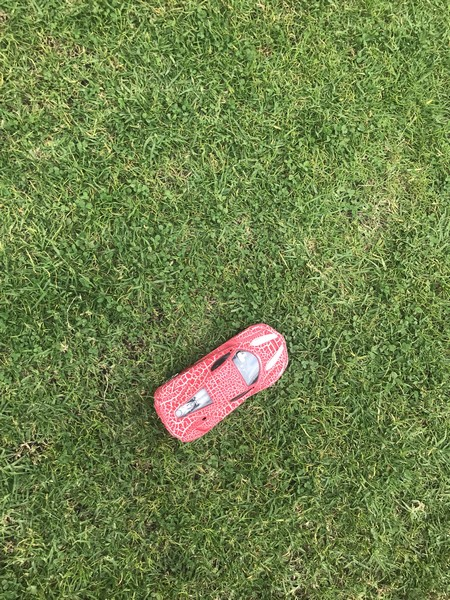RC: (152, 322, 292, 444)
